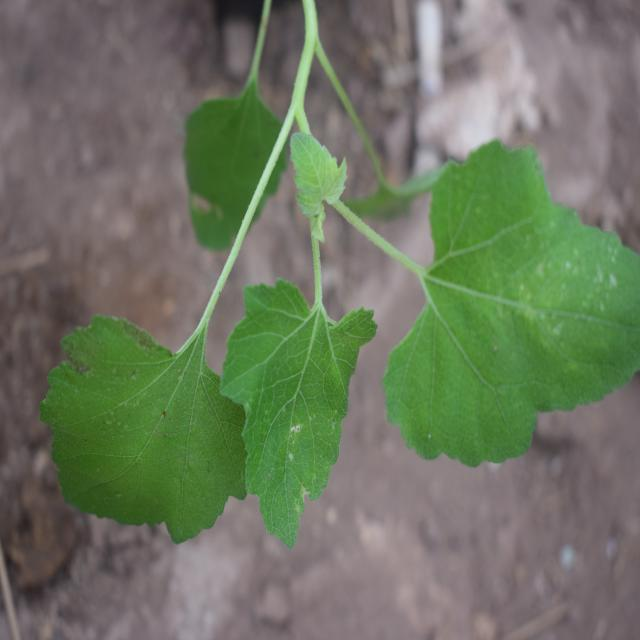cocklebur: (38, 90, 633, 538)
